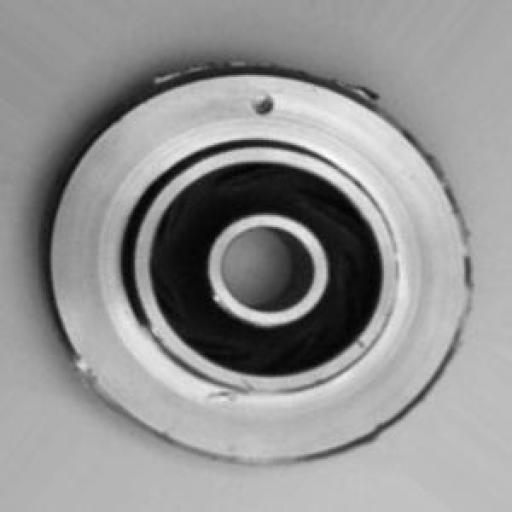defect: (32, 28, 478, 472)
